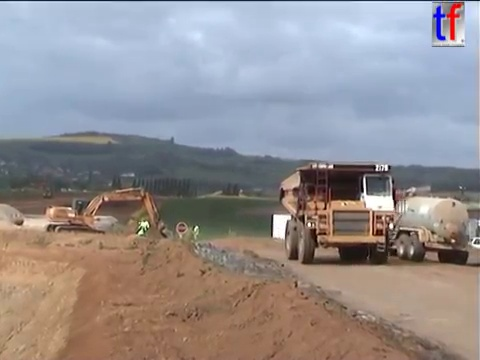excavator: (43, 185, 173, 245)
truck: (277, 160, 397, 266), (338, 188, 472, 265), (41, 188, 52, 198)
worker: (139, 217, 151, 240), (134, 222, 147, 243), (190, 221, 201, 244)
